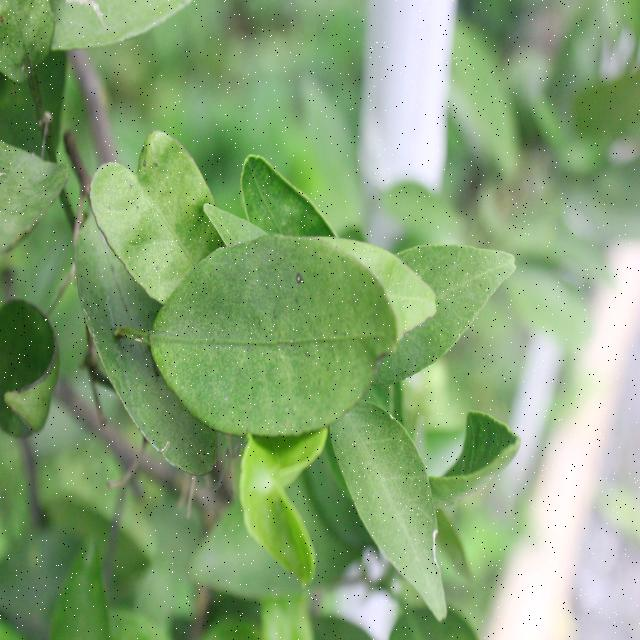blackspot: (205, 252, 364, 422), (121, 143, 196, 280), (436, 248, 490, 323), (172, 420, 221, 479)
